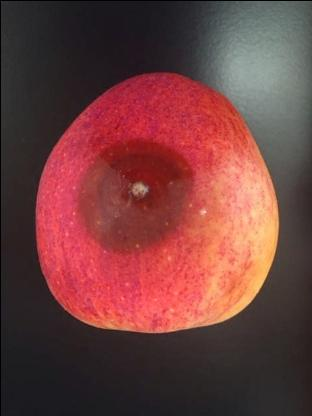defect: (72, 129, 200, 263)
